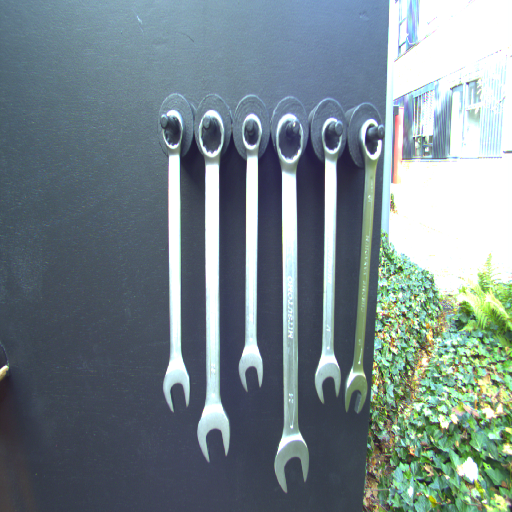bottom: (273, 432, 310, 493), (195, 405, 231, 463), (162, 361, 192, 414), (313, 354, 341, 406), (237, 341, 264, 394), (343, 369, 367, 416)
top: (274, 112, 305, 176), (197, 109, 226, 162), (319, 115, 346, 166), (357, 116, 384, 166), (159, 107, 186, 155), (239, 112, 263, 156)
